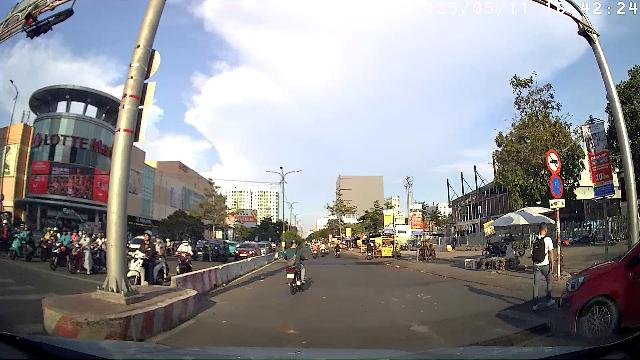131a-cam-do-xe: (549, 174, 564, 199)
